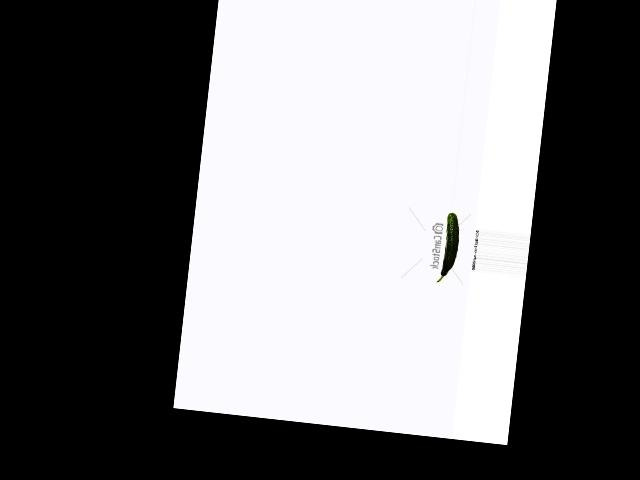cucumber: (437, 212, 461, 284)
